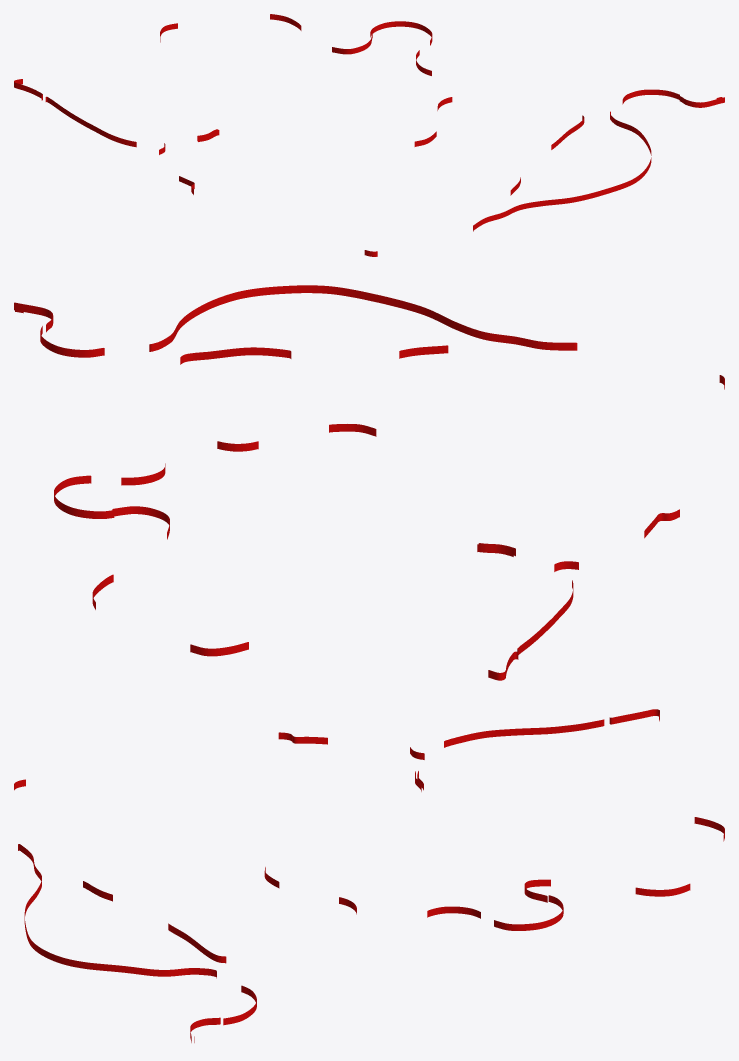
The model's file is leitplanken_colmesh.fbx.
3 renders of one model, top to bottom at view 1: azimuth 30°, elevation 25°; view 2: azimuth 150°, elevation 25°; view 3: azimuth 270°, elevation 25°, orthographic. The views are drawn at different scales.
Parts seen in each view (by area): view 1: Mesh_ncl1_4, Mesh (5), Mesh (3), Mesh (9); view 2: Mesh_ncl1_4, Mesh (3), Mesh (9), Mesh_ncl1_3, Mesh (5); view 3: Mesh_ncl1_4, Mesh (5), Mesh (3), Mesh (9).
Boxes of the visible parts, x1,y1,x2,y2 form: Mesh_ncl1_4: (473, 111, 651, 231); Mesh (5): (14, 79, 136, 147); Mesh (3): (332, 21, 432, 54); Mesh (9): (622, 89, 724, 107); Mesh_ncl1_4: (149, 285, 577, 351); Mesh (3): (54, 475, 169, 539); Mesh (9): (14, 302, 104, 357); Mesh_ncl1_3: (180, 347, 291, 364); Mesh (5): (488, 580, 573, 680); Mesh_ncl1_4: (18, 844, 216, 978); Mesh (5): (444, 709, 659, 747); Mesh (3): (494, 879, 563, 930); Mesh (9): (190, 985, 256, 1042).
Size of the model in its own units: 203444 by 6773 by 190415.
